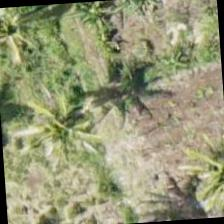Kelapa_Sawit: (19, 74, 114, 170), (178, 122, 223, 217), (0, 4, 52, 68)
